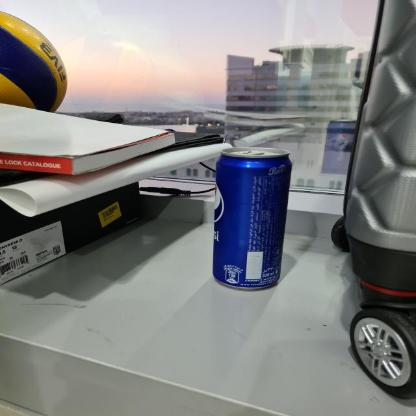Can: (208, 146, 302, 296)
